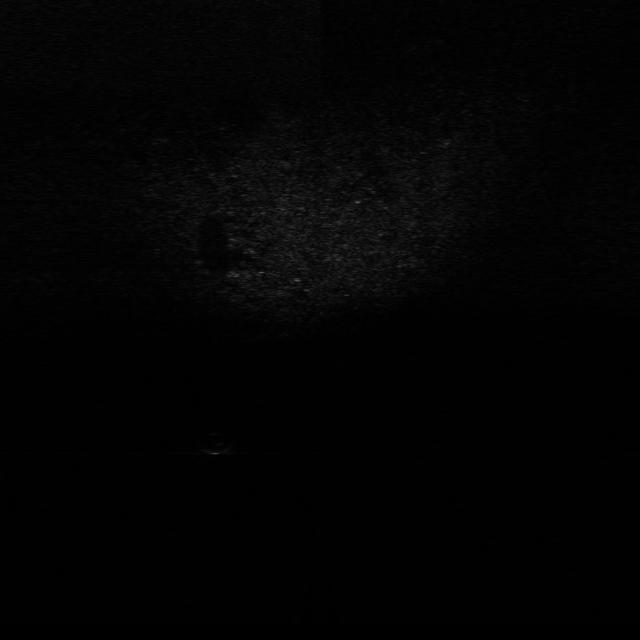ball: (198, 427, 236, 458)
